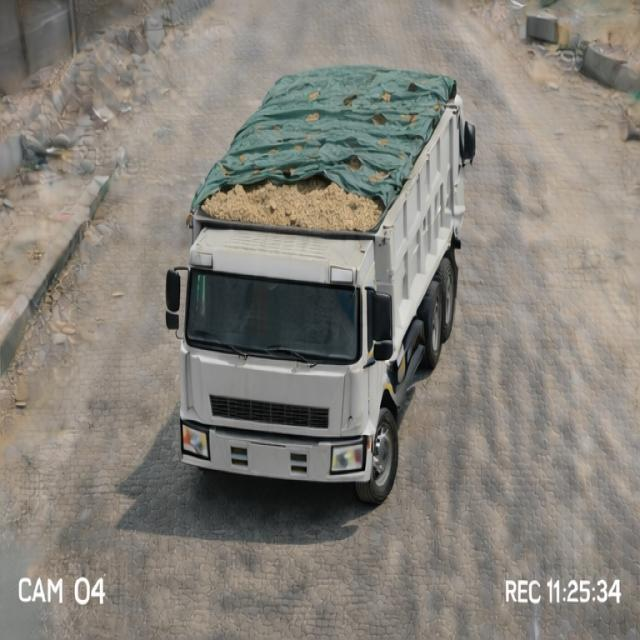trailer: (188, 65, 458, 228)
truck: (164, 54, 494, 503)
